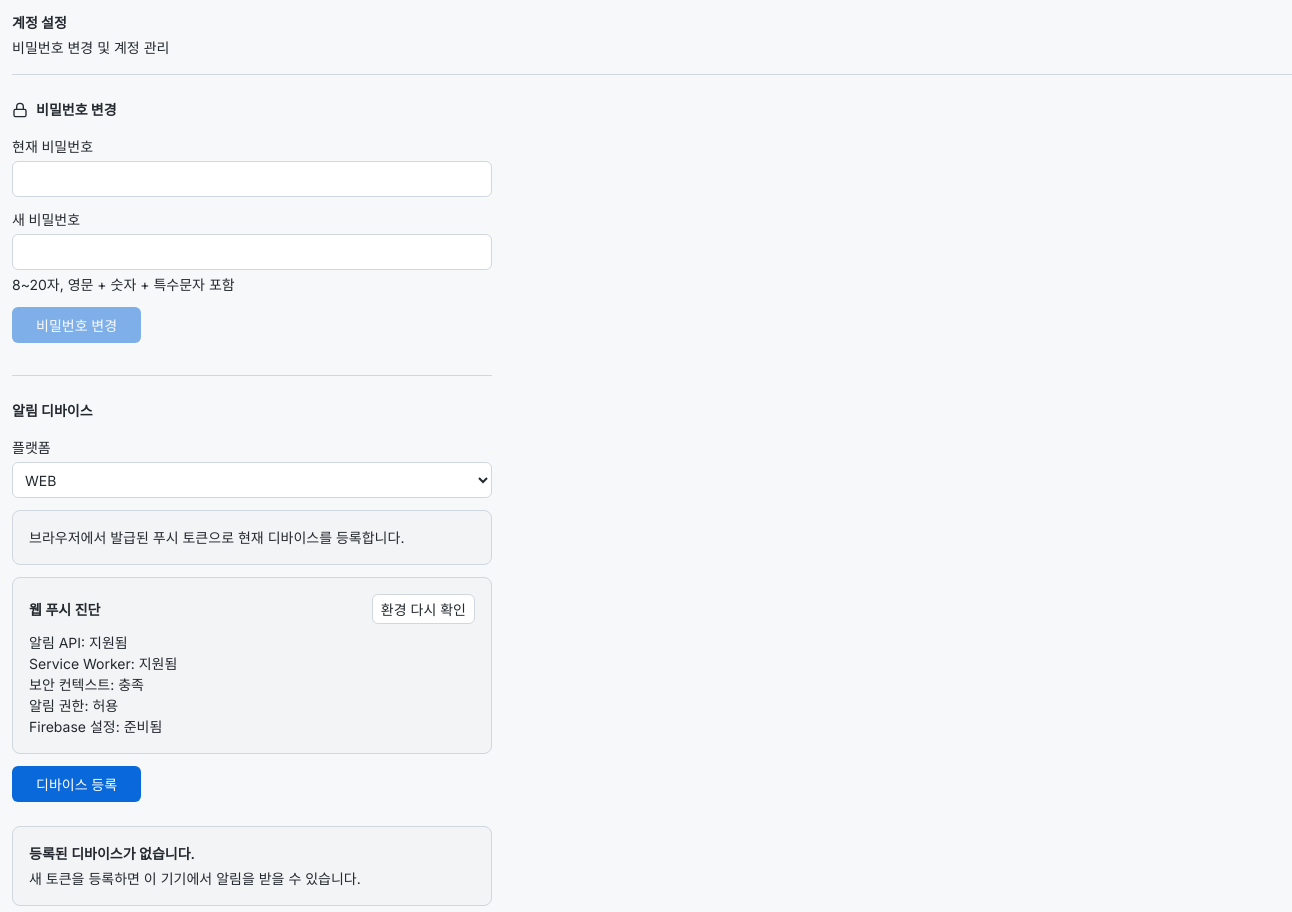
AccountSettingsPage › successfully changes password with valid input
Type "OldPass1!" into the password field labelled "현재 비밀번호" at coordinates (252, 179), box [12,161,492,197]
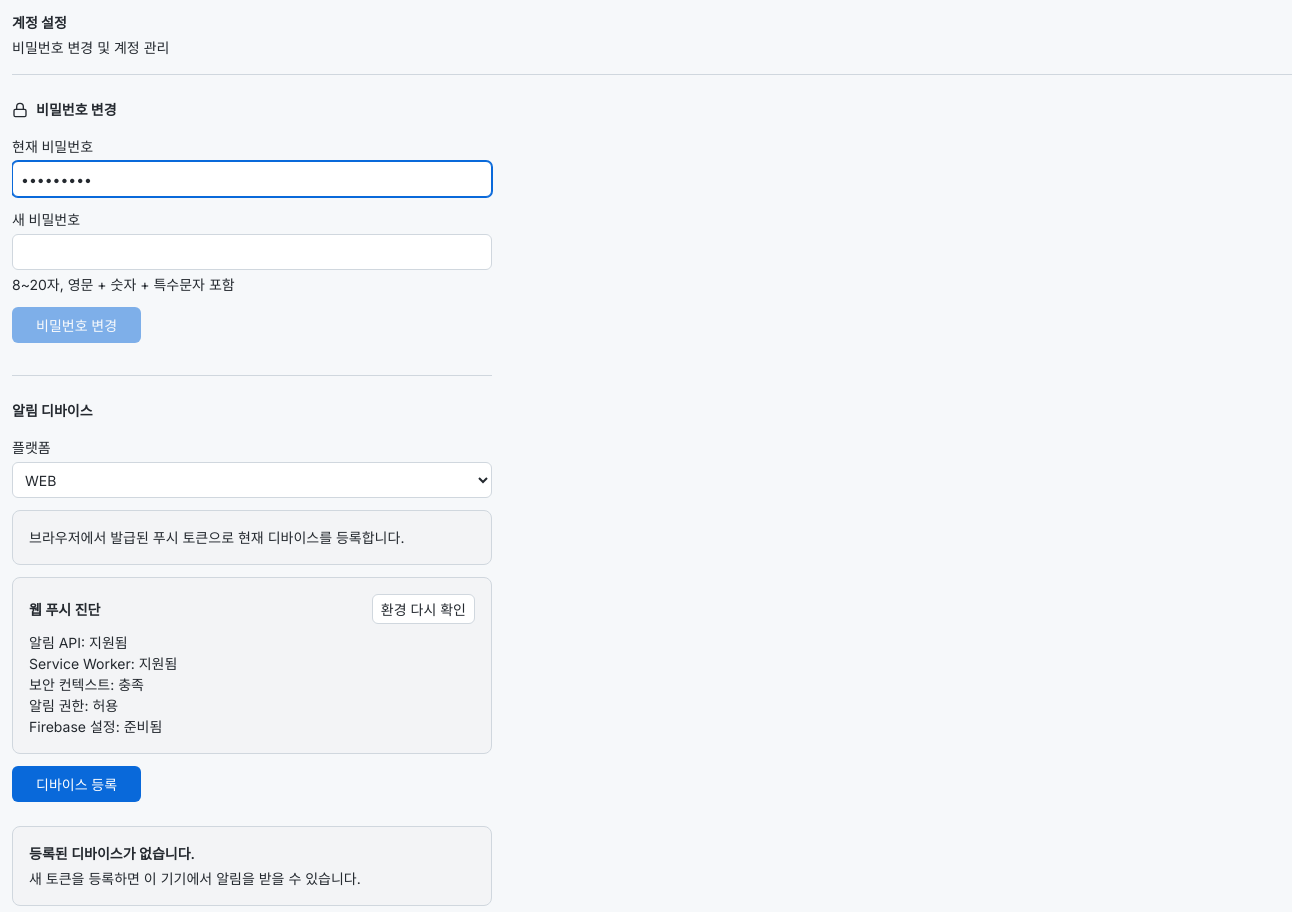
Type "NewPass1!" into the password field labelled "새 비밀번호" at coordinates (252, 252), box [12,234,492,270]
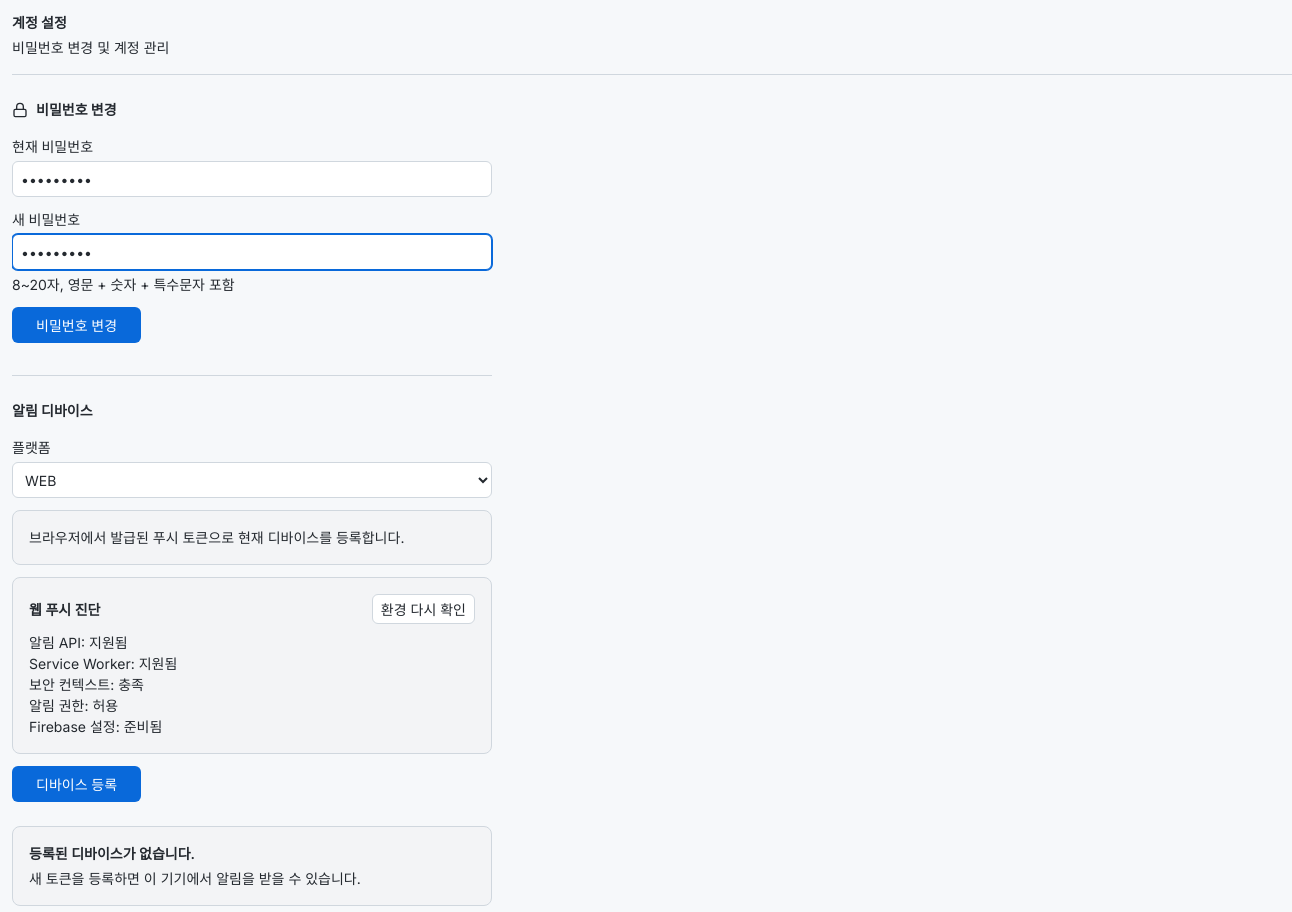
Click the button "비밀번호 변경" at coordinates (76, 325), box [12,307,141,343]
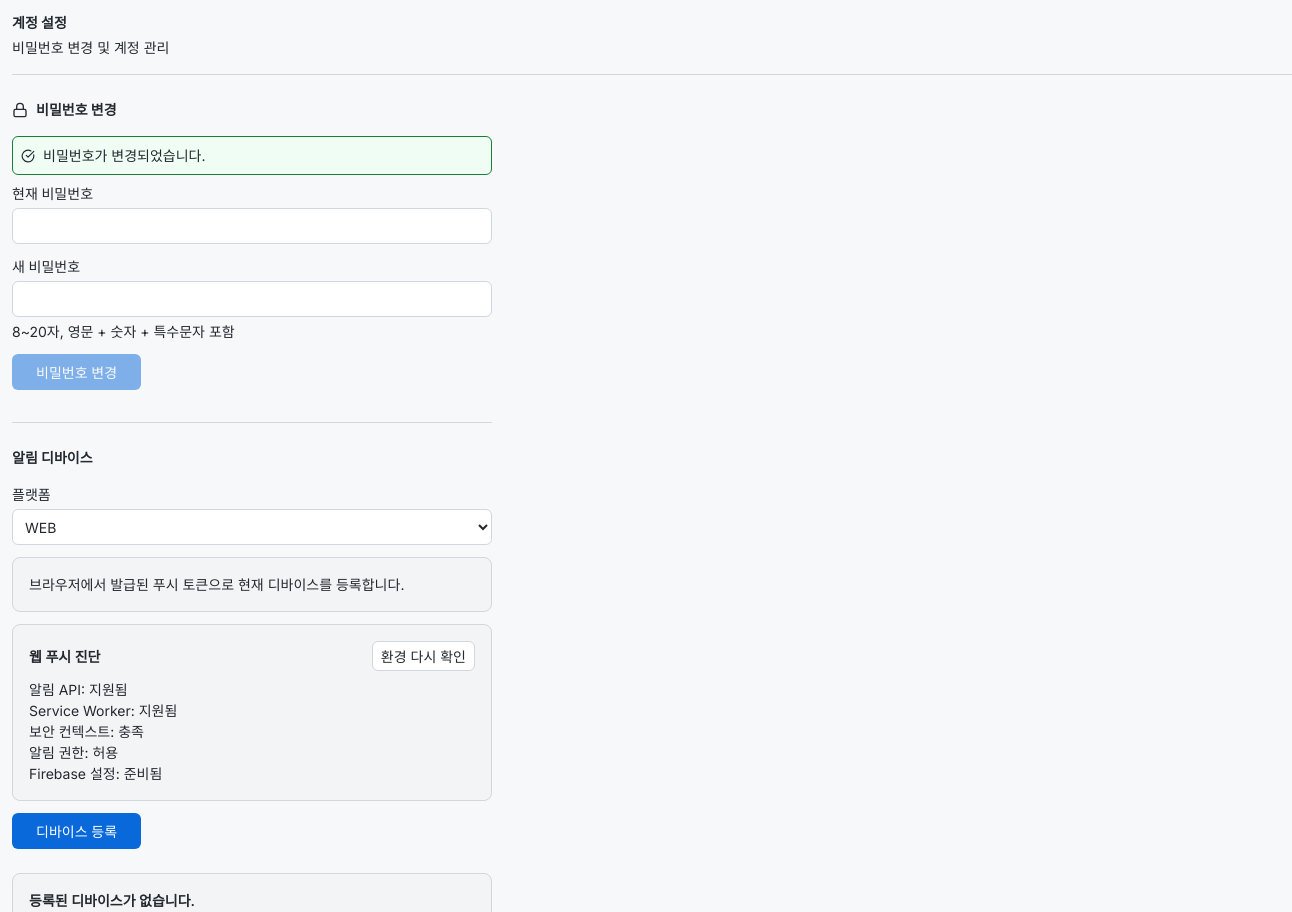
Expected: the text "비밀번호가 변경되었습니다." is shown, [12,136,492,175]
